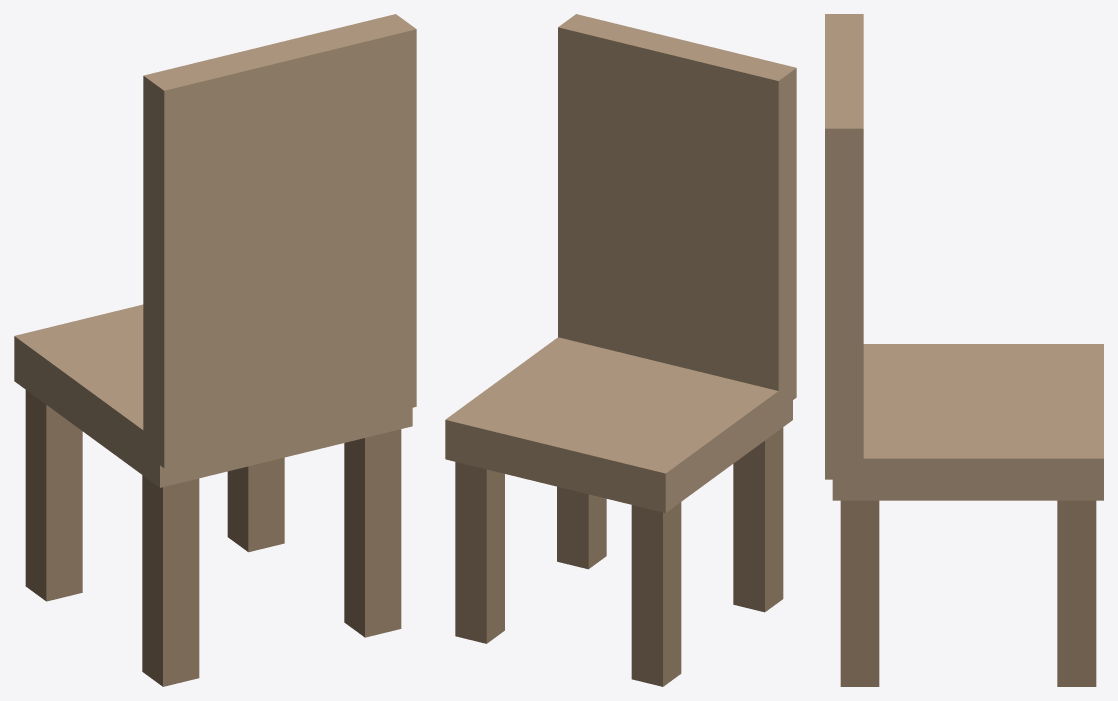
The model's file is kid_cadeira_inf.glb.
3 views of the same model, side by side, from view 1: azimuth 30°, elevation 25°; view 2: azimuth 150°, elevation 25°; view 3: azimuth 270°, elevation 25° (orthographic). The views are drawn at different scales.
Parts seen in each view (by area): view 1: KID_CADEIRA_INF_v01; view 2: KID_CADEIRA_INF_v01; view 3: KID_CADEIRA_INF_v01.
Part boxes in pixels (x1=…): KID_CADEIRA_INF_v01: x1=14, y1=14, x2=416, y2=686; KID_CADEIRA_INF_v01: x1=445, y1=14, x2=796, y2=686; KID_CADEIRA_INF_v01: x1=825, y1=14, x2=1103, y2=686.
Bounding box in the file's own units: 0.35 × 0.8 × 0.36.
